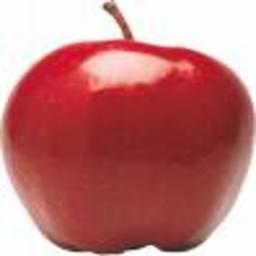apple: (1, 35, 255, 252)
